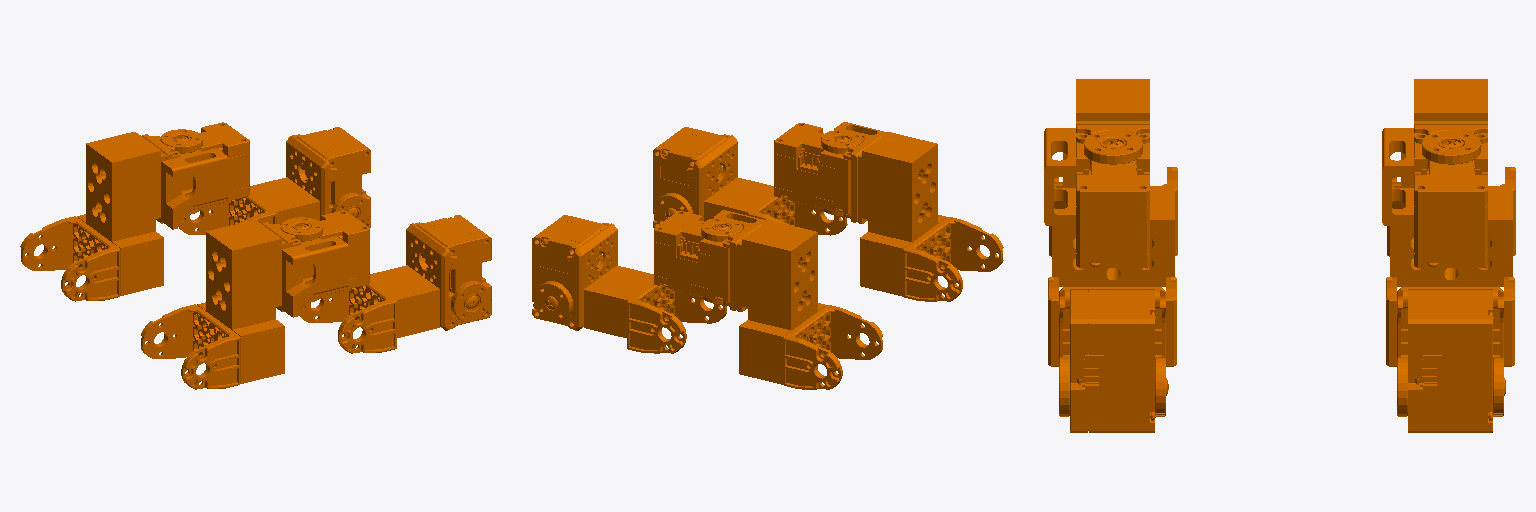
The robot description file, URDF, robot "onshape":
<robot name="onshape">
  <link name="palm_lower">
    <inertial>
      <origin xyz="0.0 0.0 0.0" rpy="0.0 -0.0 0.0"/>
      <mass value="0.237"/>
      <inertia ixx="0.000354094" ixy="-1.193e-06" ixz="-2.445e-06" iyy="0.000260915" iyz="-2.905e-06" izz="0.000529257"/>
    </inertial>
    <visual>
      <geometry>
        <mesh filename="../assets/leap/leap_hand/palm_lower.stl"/>
      </geometry>
      <origin xyz="-0.020095249652862544 0.025757756134899473 -0.034722403578460216" rpy="0.0 -0.0 0.0"/>
      <material name="palm_lower_material">
        <color rgba="0.6039215686274509 0.14901960784313725 0.14901960784313725 1.0"/>
      </material>
    </visual>
    <collision>
      <geometry>
        <mesh filename="../assets/leap/leap_hand/palm_lower.stl"/>
      </geometry>
      <origin xyz="-0.020095249652862544 0.025757756134899473 -0.034722403578460216" rpy="0.0 -0.0 0.0"/>
    </collision>
  </link>
  <link name="mcp_joint_long">
    <inertial>
      <origin xyz="0.0 0.0 0.0" rpy="0.0 -0.0 0.0"/>
      <mass value="0.044"/>
      <inertia ixx="1.1499e-05" ixy="3.049e-06" ixz="1.21e-07" iyy="7.796e-06" iyz="1.12e-07" izz="1.4759e-05"/>
    </inertial>
    <visual>
      <geometry>
        <mesh filename="custom_models/mcp_joint_long.stl"/>
      </geometry>
      <origin xyz="0.008406902261174496 0.0077662438597169954 0.014657354985032912" rpy="1.6375789613221e-15 -1.021047330249102e-30 1.7177968783327987e-31"/>
      <material name="mcp_joint_material">
        <color rgba="0.878 0.467 0.0 1.0"/>
      </material>
    </visual>
    <collision>
      <geometry>
        <mesh filename="custom_models/mcp_joint_long.stl"/>
      </geometry>
      <origin xyz="0.008406902261174496 0.0077662438597169954 0.014657354985032912" rpy="1.6375789613221e-15 -1.021047330249102e-30 1.7177968783327987e-31"/>
    </collision>
  </link>
  <link name="pip">
    <inertial>
      <origin xyz="0.0 0.0 0.0" rpy="0.0 -0.0 0.0"/>
      <mass value="0.032"/>
      <inertia ixx="4.798e-06" ixy="1.2e-08" ixz="4e-09" iyy="2.862e-06" iyz="1.1e-08" izz="4.234e-06"/>
    </inertial>
    <visual>
      <geometry>
        <mesh filename="../assets/leap/leap_hand/pip.stl"/>
      </geometry>
      <origin xyz="0.009643363092271328 0.0002999999999999895 0.0007840340104173765" rpy="-1.5707963267948966 -1.5707963267948963 0.0"/>
      <material name="pip_material">
        <color rgba="0.7490196078431373 0.7490196078431373 0.7490196078431373 1.0"/>
      </material>
    </visual>
    <collision>
      <geometry>
        <mesh filename="../assets/leap/leap_hand/pip.stl"/>
      </geometry>
      <origin xyz="0.009643363092271328 0.0002999999999999895 0.0007840340104173765" rpy="-1.5707963267948966 -1.5707963267948963 0.0"/>
    </collision>
  </link>
  <link name="dip_long">
    <inertial>
      <origin xyz="0.0 0.0 0.0" rpy="0.0 -0.0 0.0"/>
      <mass value="0.037"/>
      <inertia ixx="5.542e-06" ixy="-6.07e-07" ixz="-1.7e-08" iyy="5.727e-06" iyz="-2.3e-08" izz="6.682e-06"/>
    </inertial>
    <visual>
      <geometry>
        <mesh filename="custom_models/dip_long.stl"/>
      </geometry>
      <origin xyz="0.021133352895225003 -0.00843211914670488 0.00978508816209524" rpy="-3.141592653589793 4.507511124216441e-32 4.439548105392361e-32"/>
      <material name="dip_material">
        <color rgba="0.878 0.467 0.0 1.0"/>
      </material>
    </visual>
    <collision>
      <geometry>
        <mesh filename="custom_models/dip_long.stl"/>
      </geometry>
      <origin xyz="0.021133352895225003 -0.00843211914670488 0.00978508816209524" rpy="-3.141592653589793 4.507511124216441e-32 4.439548105392361e-32"/>
    </collision>
  </link>
  <link name="fingertip">
    <inertial>
      <origin xyz="0.0 0.0 0.0" rpy="0.0 -0.0 0.0"/>
      <mass value="0.016"/>
      <inertia ixx="3.368e-06" ixy="1.15e-07" ixz="0.0" iyy="1.556e-06" iyz="0.0" izz="2.863e-06"/>
    </inertial>
    <visual>
      <geometry>
        <mesh filename="../assets/leap/leap_hand/fingertip.stl"/>
      </geometry>
      <origin xyz="0.013286424108533503 -0.006114238386541987 0.014499999999999498" rpy="3.141592653589793 1.1993117970061735e-33 4.439548105392361e-32"/>
      <material name="fingertip_material">
        <color rgba="0.8666666666666667 0.8666666666666667 0.050980392156862744 1.0"/>
      </material>
    </visual>
    <collision>
      <geometry>
        <mesh filename="../assets/leap/leap_hand/fingertip.stl"/>
      </geometry>
      <origin xyz="0.013286424108533503 -0.006114238386541987 0.014499999999999498" rpy="3.141592653589793 1.1993117970061735e-33 4.439548105392361e-32"/>
    </collision>
  </link>
  <link name="pip_4">
    <inertial>
      <origin xyz="0.0 0.0 0.0" rpy="0.0 -0.0 0.0"/>
      <mass value="0.032"/>
      <inertia ixx="4.798e-06" ixy="1.2e-08" ixz="4e-09" iyy="2.862e-06" iyz="1.1e-08" izz="4.234e-06"/>
    </inertial>
    <visual>
      <geometry>
        <mesh filename="../assets/leap/leap_hand/pip.stl"/>
      </geometry>
      <origin xyz="-0.005356636907728671 0.0002999999999999999 0.0007840340104173782" rpy="-1.5707963267948966 -1.5707963267948963 0.0"/>
      <material name="pip_material">
        <color rgba="0.7490196078431373 0.7490196078431373 0.7490196078431373 1.0"/>
      </material>
    </visual>
    <collision>
      <geometry>
        <mesh filename="../assets/leap/leap_hand/pip.stl"/>
      </geometry>
      <origin xyz="-0.005356636907728671 0.0002999999999999999 0.0007840340104173782" rpy="-1.5707963267948966 -1.5707963267948963 0.0"/>
    </collision>
  </link>
  <link name="thumb_pip">
    <inertial>
      <origin xyz="0.0 0.0 0.0" rpy="0.0 -0.0 0.0"/>
      <mass value="0.003"/>
      <inertia ixx="5.93e-07" ixy="0.0" ixz="0.0" iyy="5.49e-07" iyz="0.0" izz="2.24e-07"/>
    </inertial>
    <visual>
      <geometry>
        <mesh filename="../assets/leap/leap_hand/thumb_pip.stl"/>
      </geometry>
      <origin xyz="0.011961920770611187 -5.30825383648903e-16 -0.0158526489566642" rpy="1.5707963267948966 1.6050198443300153e-46 -3.9204996250525193e-59"/>
      <material name="thumb_pip_material">
        <color rgba="0.8666666666666667 0.8666666666666667 0.050980392156862744 1.0"/>
      </material>
    </visual>
    <collision>
      <geometry>
        <mesh filename="../assets/leap/leap_hand/thumb_pip.stl"/>
      </geometry>
      <origin xyz="0.011961920770611187 -5.30825383648903e-16 -0.0158526489566642" rpy="1.5707963267948966 1.6050198443300153e-46 -3.9204996250525193e-59"/>
    </collision>
  </link>
  <link name="thumb_dip">
    <inertial>
      <origin xyz="0.0 0.0 0.0" rpy="0.0 -0.0 0.0"/>
      <mass value="0.038"/>
      <inertia ixx="8.474e-06" ixy="2.41e-07" ixz="2.6e-08" iyy="3.841e-06" iyz="2.5e-08" izz="7.679e-06"/>
    </inertial>
    <visual>
      <geometry>
        <mesh filename="../assets/leap/leap_hand/thumb_dip.stl"/>
      </geometry>
      <origin xyz="0.043968715707239175 0.0579529529737092 -0.008628676449369476" rpy="1.94289029309401e-16 3.27515792264422e-15 1.112375852965736e-46"/>
      <material name="thumb_dip_material">
        <color rgba="0.8666666666666667 0.8666666666666667 0.050980392156862744 1.0"/>
      </material>
    </visual>
    <collision>
      <geometry>
        <mesh filename="../assets/leap/leap_hand/thumb_dip.stl"/>
      </geometry>
      <origin xyz="0.043968715707239175 0.0579529529737092 -0.008628676449369476" rpy="1.94289029309401e-16 3.27515792264422e-15 1.112375852965736e-46"/>
    </collision>
  </link>
  <link name="thumb_fingertip">
    <inertial>
      <origin xyz="0.0 0.0 0.0" rpy="0.0 -0.0 0.0"/>
      <mass value="0.049"/>
      <inertia ixx="2.0372e-05" ixy="-4.89e-07" ixz="-3e-08" iyy="4.336e-06" iyz="-9.7e-08" izz="1.9845e-05"/>
    </inertial>
    <visual>
      <geometry>
        <mesh filename="../assets/leap/leap_hand/thumb_fingertip.stl"/>
      </geometry>
      <origin xyz="0.06255953846266739 0.07845968291139699 0.048992911807332215" rpy="4.379057701015637e-47 -3.33066907387547e-16 1.2042408677791935e-46"/>
      <material name="thumb_fingertip_material">
        <color rgba="0.6039215686274509 0.14901960784313725 0.14901960784313725 1.0"/>
      </material>
    </visual>
    <collision>
      <geometry>
        <mesh filename="../assets/leap/leap_hand/thumb_fingertip.stl"/>
      </geometry>
      <origin xyz="0.06255953846266739 0.07845968291139699 0.048992911807332215" rpy="4.379057701015637e-47 -3.33066907387547e-16 1.2042408677791935e-46"/>
    </collision>
  </link>
  <link name="mcp_joint_2">
    <inertial>
      <origin xyz="0.0 0.0 0.0" rpy="0.0 -0.0 0.0"/>
      <mass value="0.044"/>
      <inertia ixx="1.1499e-05" ixy="3.049e-06" ixz="1.21e-07" iyy="7.796e-06" iyz="1.12e-07" izz="1.4759e-05"/>
    </inertial>
    <visual>
      <geometry>
        <mesh filename="../assets/leap/leap_hand/mcp_joint.stl"/>
      </geometry>
      <origin xyz="0.008406902261174496 0.0077662438597169954 0.014657354985032914" rpy="1.6375789613221e-15 -1.0076465469034e-30 2.1209300131419907e-61"/>
      <material name="mcp_joint_material">
        <color rgba="0.8666666666666667 0.8666666666666667 0.050980392156862744 1.0"/>
      </material>
    </visual>
    <collision>
      <geometry>
        <mesh filename="../assets/leap/leap_hand/mcp_joint.stl"/>
      </geometry>
      <origin xyz="0.008406902261174496 0.0077662438597169954 0.014657354985032914" rpy="1.6375789613221e-15 -1.0076465469034e-30 2.1209300131419907e-61"/>
    </collision>
  </link>
  <link name="pip_2">
    <inertial>
      <origin xyz="0.0 0.0 0.0" rpy="0.0 -0.0 0.0"/>
      <mass value="0.032"/>
      <inertia ixx="4.798e-06" ixy="1.2e-08" ixz="4e-09" iyy="2.862e-06" iyz="1.1e-08" izz="4.234e-06"/>
    </inertial>
    <visual>
      <geometry>
        <mesh filename="../assets/leap/leap_hand/pip.stl"/>
      </geometry>
      <origin xyz="0.009643363092271328 0.0002999999999999947 0.0007840340104173765" rpy="-1.5707963267948966 -1.5707963267948963 0.0"/>
      <material name="pip_material">
        <color rgba="0.7490196078431373 0.7490196078431373 0.7490196078431373 1.0"/>
      </material>
    </visual>
    <collision>
      <geometry>
        <mesh filename="../assets/leap/leap_hand/pip.stl"/>
      </geometry>
      <origin xyz="0.009643363092271328 0.0002999999999999947 0.0007840340104173765" rpy="-1.5707963267948966 -1.5707963267948963 0.0"/>
    </collision>
  </link>
  <link name="dip_2">
    <inertial>
      <origin xyz="0.0 0.0 0.0" rpy="0.0 -0.0 0.0"/>
      <mass value="0.037"/>
      <inertia ixx="5.542e-06" ixy="-6.07e-07" ixz="-1.7e-08" iyy="5.727e-06" iyz="-2.3e-08" izz="6.682e-06"/>
    </inertial>
    <visual>
      <geometry>
        <mesh filename="../assets/leap/leap_hand/dip.stl"/>
      </geometry>
      <origin xyz="0.021133352895225003 -0.008432119146704865 0.009785088162095237" rpy="-3.141592653589793 2.1146933785271956e-32 1.4408183216511869e-31"/>
      <material name="dip_material">
        <color rgba="0.8666666666666667 0.8666666666666667 0.050980392156862744 1.0"/>
      </material>
    </visual>
    <collision>
      <geometry>
        <mesh filename="../assets/leap/leap_hand/dip.stl"/>
      </geometry>
      <origin xyz="0.021133352895225003 -0.008432119146704865 0.009785088162095237" rpy="-3.141592653589793 2.1146933785271956e-32 1.4408183216511869e-31"/>
    </collision>
  </link>
  <link name="fingertip_2">
    <inertial>
      <origin xyz="0.0 0.0 0.0" rpy="0.0 -0.0 0.0"/>
      <mass value="0.016"/>
      <inertia ixx="3.368e-06" ixy="1.15e-07" ixz="0.0" iyy="1.556e-06" iyz="0.0" izz="2.863e-06"/>
    </inertial>
    <visual>
      <geometry>
        <mesh filename="../assets/leap/leap_hand/fingertip.stl"/>
      </geometry>
      <origin xyz="0.013286424108533496 -0.006114238386542001 0.014499999999999496" rpy="3.141592653589793 -4.317959788283594e-33 1.4408183216511869e-31"/>
      <material name="fingertip_material">
        <color rgba="0.8666666666666667 0.8666666666666667 0.050980392156862744 1.0"/>
      </material>
    </visual>
    <collision>
      <geometry>
        <mesh filename="../assets/leap/leap_hand/fingertip.stl"/>
      </geometry>
      <origin xyz="0.013286424108533496 -0.006114238386542001 0.014499999999999496" rpy="3.141592653589793 -4.317959788283594e-33 1.4408183216511869e-31"/>
    </collision>
  </link>
  <link name="mcp_joint_3_long">
    <inertial>
      <origin xyz="0.0 0.0 0.0" rpy="0.0 -0.0 0.0"/>
      <mass value="0.044"/>
      <inertia ixx="1.1499e-05" ixy="3.049e-06" ixz="1.21e-07" iyy="7.796e-06" iyz="1.12e-07" izz="1.4759e-05"/>
    </inertial>
    <visual>
      <geometry>
        <mesh filename="custom_models/mcp_joint_long.stl"/>
      </geometry>
      <origin xyz="0.0084069022611745 0.007766243859716996 0.014657354985032914" rpy="1.6375789613221e-15 -1.0059504988632627e-30 5.729641584552035e-32"/>
      <material name="mcp_joint_material">
        <color rgba="0.878 0.467 0.0 1.0"/>
      </material>
    </visual>
    <collision>
      <geometry>
        <mesh filename="custom_models/mcp_joint_long.stl"/>
      </geometry>
      <origin xyz="0.0084069022611745 0.007766243859716996 0.014657354985032914" rpy="1.6375789613221e-15 -1.0059504988632627e-30 5.729641584552035e-32"/>
    </collision>
  </link>
  <link name="pip_3">
    <inertial>
      <origin xyz="0.0 0.0 0.0" rpy="0.0 -0.0 0.0"/>
      <mass value="0.032"/>
      <inertia ixx="4.798e-06" ixy="1.2e-08" ixz="4e-09" iyy="2.862e-06" iyz="1.1e-08" izz="4.234e-06"/>
    </inertial>
    <visual>
      <geometry>
        <mesh filename="../assets/leap/leap_hand/pip.stl"/>
      </geometry>
      <origin xyz="0.009643363092271331 0.00029999999999998084 0.0007840340104173765" rpy="-1.5707963267948966 -1.5707963267948963 0.0"/>
      <material name="pip_material">
        <color rgba="0.7490196078431373 0.7490196078431373 0.7490196078431373 1.0"/>
      </material>
    </visual>
    <collision>
      <geometry>
        <mesh filename="../assets/leap/leap_hand/pip.stl"/>
      </geometry>
      <origin xyz="0.009643363092271331 0.00029999999999998084 0.0007840340104173765" rpy="-1.5707963267948966 -1.5707963267948963 0.0"/>
    </collision>
  </link>
  <link name="dip_3_long">
    <inertial>
      <origin xyz="0.0 0.0 0.0" rpy="0.0 -0.0 0.0"/>
      <mass value="0.037"/>
      <inertia ixx="5.542e-06" ixy="-6.07e-07" ixz="-1.7e-08" iyy="5.727e-06" iyz="-2.3e-08" izz="6.682e-06"/>
    </inertial>
    <visual>
      <geometry>
        <mesh filename="custom_models/dip_long.stl"/>
      </geometry>
      <origin xyz="0.021133352895225006 -0.008432119146704865 0.009785088162095237" rpy="-3.141592653589793 -1.4095651113919093e-33 1.5565411607615035e-32"/>
      <material name="dip_material">
        <color rgba="0.878 0.467 0.0 1.0"/>
      </material>
    </visual>
    <collision>
      <geometry>
        <mesh filename="custom_models/dip_long.stl"/>
      </geometry>
      <origin xyz="0.021133352895225006 -0.008432119146704865 0.009785088162095237" rpy="-3.141592653589793 -1.4095651113919093e-33 1.5565411607615035e-32"/>
    </collision>
  </link>
  <link name="fingertip_3">
    <inertial>
      <origin xyz="0.0 0.0 0.0" rpy="0.0 -0.0 0.0"/>
      <mass value="0.016"/>
      <inertia ixx="3.368e-06" ixy="1.15e-07" ixz="0.0" iyy="1.556e-06" iyz="0.0" izz="2.863e-06"/>
    </inertial>
    <visual>
      <geometry>
        <mesh filename="../assets/leap/leap_hand/fingertip.stl"/>
      </geometry>
      <origin xyz="0.013286424108533501 -0.006114238386541987 0.0144999999999995" rpy="3.141592653589793 8.61707169505754e-33 1.5565411607615035e-32"/>
      <material name="fingertip_material">
        <color rgba="0.8666666666666667 0.8666666666666667 0.050980392156862744 1.0"/>
      </material>
    </visual>
    <collision>
      <geometry>
        <mesh filename="../assets/leap/leap_hand/fingertip.stl"/>
      </geometry>
      <origin xyz="0.013286424108533501 -0.006114238386541987 0.0144999999999995" rpy="3.141592653589793 8.61707169505754e-33 1.5565411607615035e-32"/>
    </collision>
  </link>
  <joint name="1" type="revolute">
    <parent link="palm_lower"/>
    <child link="mcp_joint_long"/>
    <origin xyz="-0.007095249652862546 0.023057756134899472 -0.01872240357846022" rpy="1.570796326794895 1.5707963267948946 0.0"/>
    <axis xyz="0.0 0.0 -1.0"/>
    <limit effort="0.95" velocity="8.48" lower="-0.314" upper="2.23"/>
  </joint>
  <joint name="0" type="revolute">
    <parent link="mcp_joint_long"/>
    <child link="pip"/>
    <origin xyz="-0.012200000000000007713 0.053099999999999994982 0.014500000000000000736" rpy="-1.5707963267948966 -1.0065212660796337e-15 1.5707963267948943"/>
    <axis xyz="0.0 0.0 -1.0"/>
    <limit effort="0.95" velocity="8.48" lower="-1.047" upper="1.047"/>
  </joint>
  <joint name="2" type="revolute">
    <parent link="pip"/>
    <child link="dip_long"/>
    <origin xyz="0.014999999999999968 0.014299999999999905 -0.012999999999999824" rpy="1.570796326794896 -1.5707963267948963 0.0"/>
    <axis xyz="0.0 0.0 -1.0"/>
    <limit effort="0.95" velocity="8.48" lower="-0.506" upper="1.885"/>
  </joint>
  <joint name="3" type="revolute">
    <parent link="dip_long"/>
    <child link="fingertip"/>
    <origin xyz="-4.0880582495572692636e-09 -0.051100004210367367397 0.00020000000000007858714" rpy="4.5935029425113685e-17 -2.8730071914463795e-16 4.439548105392361e-32"/>
    <axis xyz="0.0 0.0 -1.0"/>
    <limit effort="0.95" velocity="8.48" lower="-0.366" upper="2.042"/>
  </joint>
  <joint name="12" type="revolute">
    <parent link="palm_lower"/>
    <child link="pip_4"/>
    <origin xyz="-0.06939524965286253 -0.0012422438651005258 -0.021622403578460216" rpy="-8.238176646493942e-17 1.5707963267948957 0.0"/>
    <axis xyz="0.0 0.0 -1.0"/>
    <limit effort="0.95" velocity="8.48" lower="-0.349" upper="2.094"/>
  </joint>
  <joint name="13" type="revolute">
    <parent link="pip_4"/>
    <child link="thumb_pip"/>
    <origin xyz="-2.7755575615628914e-17 0.014300000000000005 -0.013000000000000012" rpy="1.570796326794896 -1.5707963267948963 0.0"/>
    <axis xyz="0.0 0.0 -1.0"/>
    <limit effort="0.95" velocity="8.48" lower="-0.47" upper="2.443"/>
  </joint>
  <joint name="14" type="revolute">
    <parent link="thumb_pip"/>
    <child link="thumb_dip"/>
    <origin xyz="0.0 0.014499999999999966 -0.017000000000000053" rpy="-1.5707963267948966 1.6050198443300131e-46 -1.9721522630516625e-31"/>
    <axis xyz="0.0 0.0 -1.0"/>
    <limit effort="0.95" velocity="8.48" lower="-1.2" upper="1.9"/>
  </joint>
  <joint name="15" type="revolute">
    <parent link="thumb_dip"/>
    <child link="thumb_fingertip"/>
    <origin xyz="-1.249000902703301e-16 0.046599999999999864 0.0001999999999999771" rpy="1.506395849149178e-44 5.423418723393526e-31 3.141592653589793"/>
    <axis xyz="0.0 0.0 -1.0"/>
    <limit effort="0.95" velocity="8.48" lower="-1.34" upper="1.88"/>
  </joint>
  <joint name="5" type="revolute">
    <parent link="palm_lower"/>
    <child link="mcp_joint_2"/>
    <origin xyz="-0.007095249652862546 -0.022392243865100525 -0.01872240357846022" rpy="1.570796326794895 1.5707963267948946 0.0"/>
    <axis xyz="0.0 0.0 -1.0"/>
    <limit effort="0.95" velocity="8.48" lower="-0.314" upper="2.23"/>
  </joint>
  <joint name="4" type="revolute">
    <parent link="mcp_joint_2"/>
    <child link="pip_2"/>
    <origin xyz="-0.012200000000000008 0.038099999999999995 0.0145" rpy="-1.5707963267948966 -1.0065212660796337e-15 1.5707963267948943"/>
    <axis xyz="0.0 0.0 -1.0"/>
    <limit effort="0.95" velocity="8.48" lower="-1.047" upper="1.047"/>
  </joint>
  <joint name="6" type="revolute">
    <parent link="pip_2"/>
    <child link="dip_2"/>
    <origin xyz="0.014999999999999968 0.014299999999999905 -0.012999999999999824" rpy="1.570796326794896 -1.5707963267948963 0.0"/>
    <axis xyz="0.0 0.0 -1.0"/>
    <limit effort="0.95" velocity="8.48" lower="-0.506" upper="1.885"/>
  </joint>
  <joint name="7" type="revolute">
    <parent link="dip_2"/>
    <child link="fingertip_2"/>
    <origin xyz="-4.088058249557269e-09 -0.03610000421036737 0.0002000000000000786" rpy="4.5935029425113685e-17 -2.8730071914463795e-16 4.439548105392361e-32"/>
    <axis xyz="0.0 0.0 -1.0"/>
    <limit effort="0.95" velocity="8.48" lower="-0.366" upper="2.042"/>
  </joint>
  <joint name="9" type="revolute">
    <parent link="palm_lower"/>
    <child link="mcp_joint_3_long"/>
    <origin xyz="-0.007095249652862546 -0.06784224386510052 -0.01872240357846022" rpy="1.570796326794895 1.5707963267948946 0.0"/>
    <axis xyz="0.0 0.0 -1.0"/>
    <limit effort="0.95" velocity="8.48" lower="-0.314" upper="2.23"/>
  </joint>
  <joint name="8" type="revolute">
    <parent link="mcp_joint_3_long"/>
    <child link="pip_3"/>
    <origin xyz="-0.012200000000000007713 0.053099999999999994982 0.014500000000000000736" rpy="-1.5707963267948966 -1.0065212660796337e-15 1.5707963267948943"/>
    <axis xyz="0.0 0.0 -1.0"/>
    <limit effort="0.95" velocity="8.48" lower="-1.047" upper="1.047"/>
  </joint>
  <joint name="10" type="revolute">
    <parent link="pip_3"/>
    <child link="dip_3_long"/>
    <origin xyz="0.014999999999999968 0.014299999999999905 -0.012999999999999824" rpy="1.570796326794896 -1.5707963267948963 0.0"/>
    <axis xyz="0.0 0.0 -1.0"/>
    <limit effort="0.95" velocity="8.48" lower="-0.506" upper="1.885"/>
  </joint>
  <joint name="11" type="revolute">
    <parent link="dip_3_long"/>
    <child link="fingertip_3"/>
    <origin xyz="-4.0880582495572692636e-09 -0.051100004210367367397 0.00020000000000007858714" rpy="4.5935029425113685e-17 -2.8730071914463795e-16 4.439548105392361e-32"/>
    <axis xyz="0.0 0.0 -1.0"/>
    <limit effort="0.95" velocity="8.48" lower="-0.366" upper="2.042"/>
  </joint>
</robot>

--- What the picture shows (computed from the rendered views, not written in the file) ---
Views: 3 orthographic renders of the robot side by side, from view 1: azimuth 30°, elevation 25°; view 2: azimuth 150°, elevation 25°; view 3: azimuth 270°, elevation 25°.
Model onshape with 17 links and 16 joints (16 revolute), rooted at palm_lower, posed all joints at 0.
Links seen in each view (by area): view 1: mcp_joint_3_long, mcp_joint_long, dip_3_long, dip_long; view 2: mcp_joint_long, mcp_joint_3_long, dip_long, dip_3_long; view 3: mcp_joint_3_long, mcp_joint_long, dip_3_long, dip_long.
Boxes of the visible links, left/top/right/bottom form: mcp_joint_3_long: left=141, top=210, right=369, bottom=389; mcp_joint_long: left=20, top=122, right=249, bottom=301; dip_3_long: left=299, top=215, right=491, bottom=353; dip_long: left=179, top=127, right=370, bottom=234; mcp_joint_long: left=654, top=210, right=882, bottom=389; mcp_joint_3_long: left=774, top=122, right=1003, bottom=301; dip_long: left=532, top=215, right=726, bottom=353; dip_3_long: left=653, top=127, right=847, bottom=235; mcp_joint_3_long: left=1044, top=79, right=1177, bottom=286; mcp_joint_long: left=1382, top=79, right=1515, bottom=286; dip_3_long: left=1048, top=277, right=1176, bottom=432; dip_long: left=1386, top=277, right=1514, bottom=432.
Bounding box of the posed robot: 0.1371 × 0.1267 × 0.0538 m (x, y, z).
4 mesh visuals loaded from 10 distinct referenced files (2 binary STL); not drawn: 13 (reference not matched to a file when rendering).